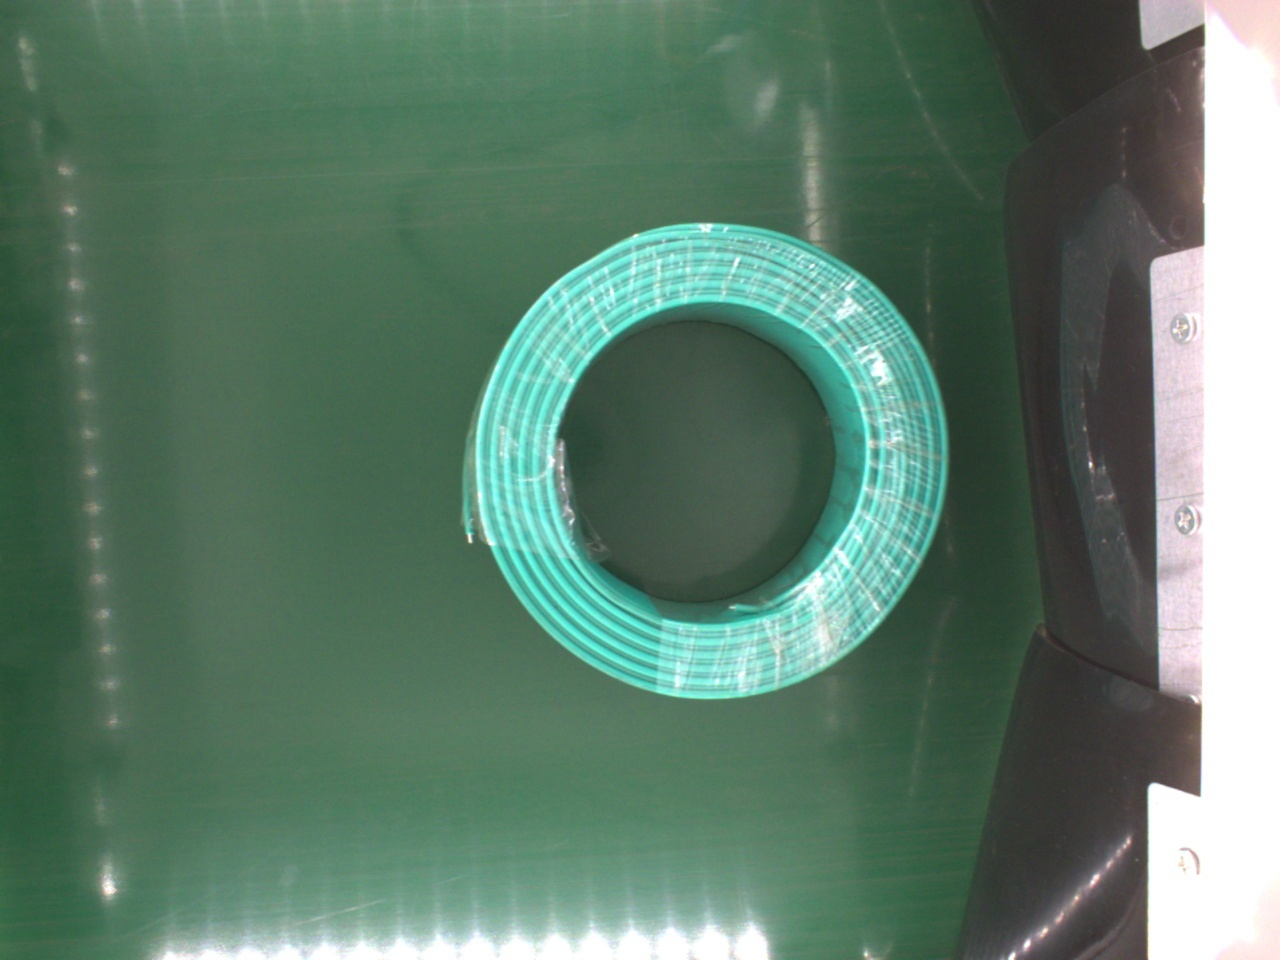green: (457, 224, 949, 704)
